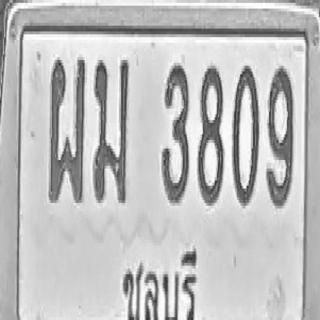A28: (48, 54, 86, 203)
A33: (92, 57, 129, 203)
N00: (232, 63, 259, 206)
N03: (162, 61, 189, 204)
N08: (197, 64, 224, 204)
N09: (266, 64, 293, 207)
P13: (112, 226, 202, 320)
